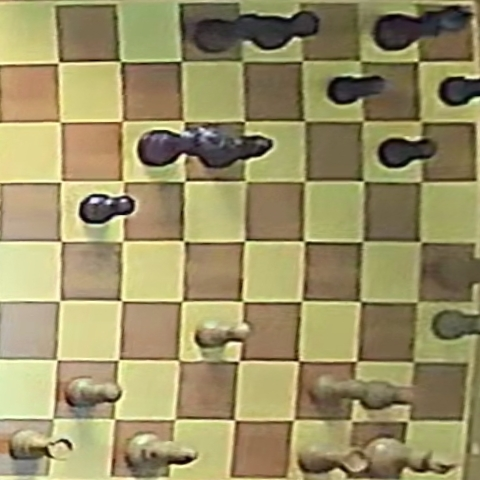black-bishop: (195, 132, 275, 170)
black-king: (375, 5, 472, 52)
black-pawn: (328, 74, 389, 106), (378, 137, 438, 169), (80, 194, 135, 224), (440, 75, 480, 106)
black-queen: (138, 123, 227, 168)
black-rook: (192, 9, 261, 53), (249, 11, 319, 50)
white-bishop: (126, 432, 196, 469)
white-king: (369, 439, 454, 475)
white-pawn: (195, 320, 251, 349), (67, 377, 121, 407), (433, 309, 480, 340), (360, 380, 409, 409), (311, 375, 353, 405)
white-queen: (433, 252, 480, 290)
white-rook: (298, 443, 371, 476), (10, 430, 74, 461)
